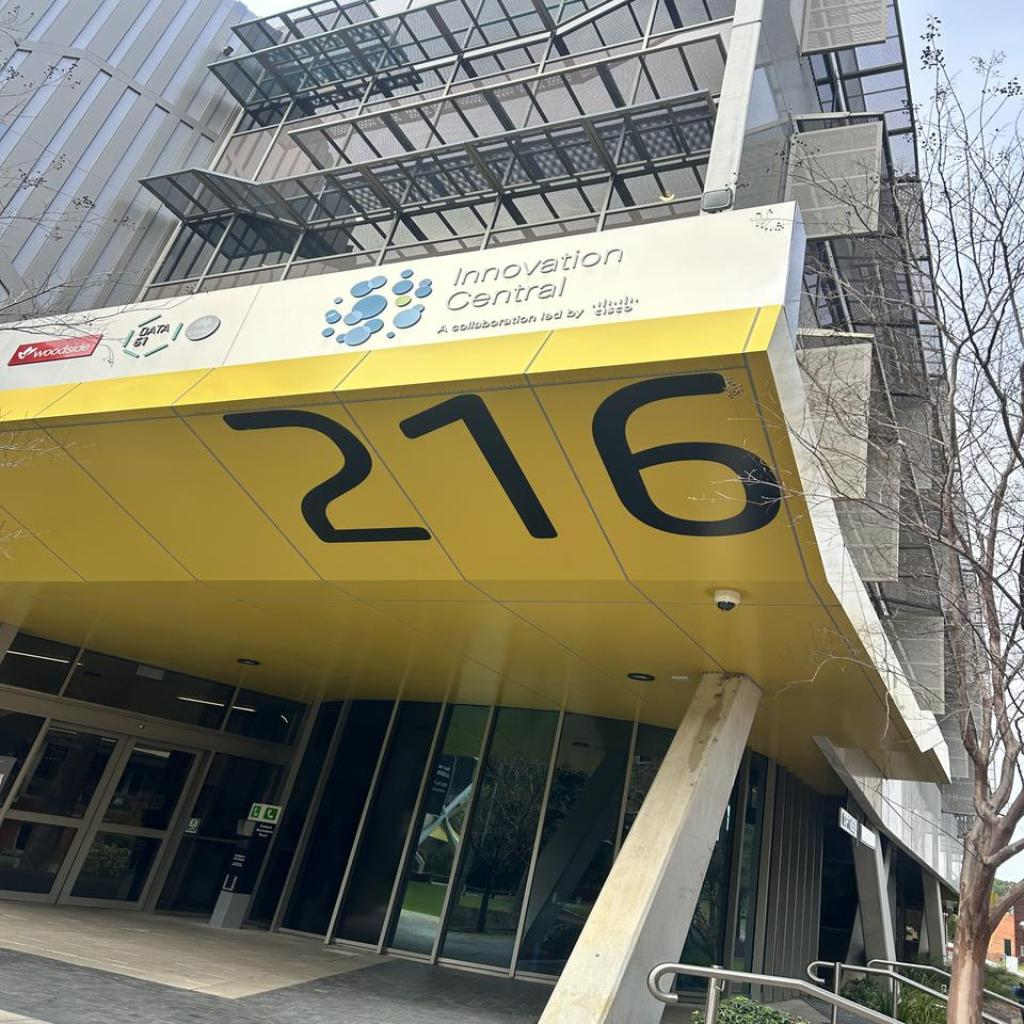BuildingCodes: (218, 364, 792, 550)
